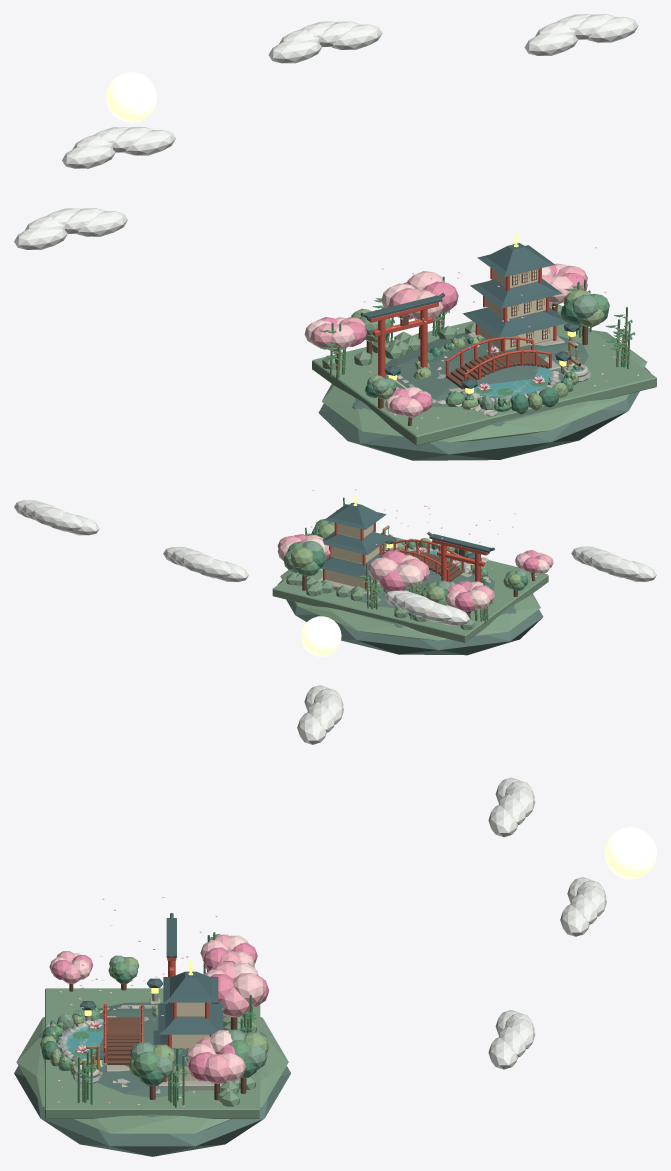
The model's file is garden.glb.
3 renders of one model, top to bottom at view 1: azimuth 30°, elevation 25°; view 2: azimuth 150°, elevation 25°; view 3: azimuth 270°, elevation 25°, orthographic. The views are drawn at different scales.
Visible parts, largest first — view 1: Floating garden foundation, Garden level lawn, Moss garden edge, SkySun, Pagoda sweeping roof, Pagoda sweeping roof.002, Pagoda sweeping roof.001, SkyCloud_1, SkyCloud_0, SkyCloud_2, SkyCloud_3, SkyCloud_2.004 (+4 smaller); view 2: Garden level lawn, Floating garden foundation, Moss garden edge, SkySun, Pagoda sweeping roof.002, Pagoda sweeping roof.001, Pagoda sweeping roof, Sakura blossom.008, Sakura blossom.010, SkyCloud_0.002, SkyCloud_3.002, Pagoda ivory walls.001 (+17 smaller); view 3: Garden level lawn, Floating garden foundation, Moss garden edge, SkySun, Pagoda sweeping roof.002, Pagoda sweeping roof.001, Sakura blossom.008, Koi pond.
Boxes of the visible parts, <box> form: Floating garden foundation: <box>318,333,650,460</box>; Garden level lawn: <box>312,302,656,445</box>; Moss garden edge: <box>322,330,647,442</box>; SkySun: <box>106,72,156,122</box>; Pagoda sweeping roof: <box>462,307,568,337</box>; Pagoda sweeping roof.002: <box>477,243,554,277</box>; Pagoda sweeping roof.001: <box>470,278,562,308</box>; SkyCloud_1: <box>268,40,321,63</box>; SkyCloud_0: <box>62,145,115,168</box>; SkyCloud_2: <box>524,32,578,55</box>; SkyCloud_3: <box>14,226,67,249</box>; SkyCloud_2.004: <box>588,17,638,42</box>; Garden level lawn: <box>272,533,548,642</box>; Floating garden foundation: <box>277,554,543,655</box>; Moss garden edge: <box>280,570,540,640</box>; SkySun: <box>301,616,341,656</box>; Pagoda sweeping roof.002: <box>324,502,386,529</box>; Pagoda sweeping roof.001: <box>322,531,392,554</box>; Pagoda sweeping roof: <box>321,554,381,580</box>; Sakura blossom.008: <box>368,557,398,581</box>; Sakura blossom.010: <box>396,564,423,588</box>; SkyCloud_0.002: <box>401,597,435,616</box>; SkyCloud_3.002: <box>588,553,622,572</box>; Pagoda ivory walls.001: <box>331,546,379,564</box>; Garden level lawn: <box>45,988,260,1118</box>; Floating garden foundation: <box>14,1002,290,1156</box>; Moss garden edge: <box>16,1017,288,1133</box>; SkySun: <box>604,827,656,879</box>; Pagoda sweeping roof.002: <box>163,971,218,1002</box>; Pagoda sweeping roof.001: <box>158,1003,223,1034</box>; Sakura blossom.008: <box>233,973,265,1004</box>; Koi pond: <box>66,1021,123,1065</box>.
Bounding box in the file's own units: 35.27 × 11.15 × 26.9.
